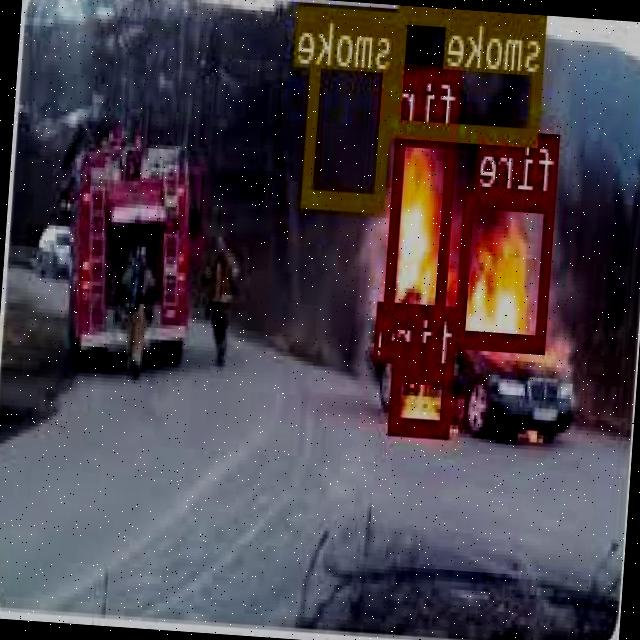fire: (383, 126, 459, 359), (455, 187, 557, 348), (390, 362, 456, 434)
smoke: (392, 5, 548, 145), (303, 4, 398, 208)
